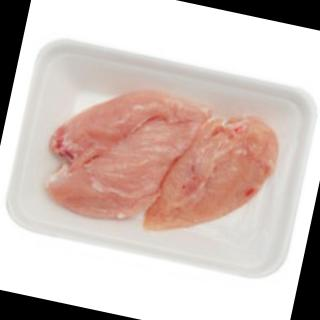Ayam: (39, 75, 206, 239), (145, 107, 283, 253)
